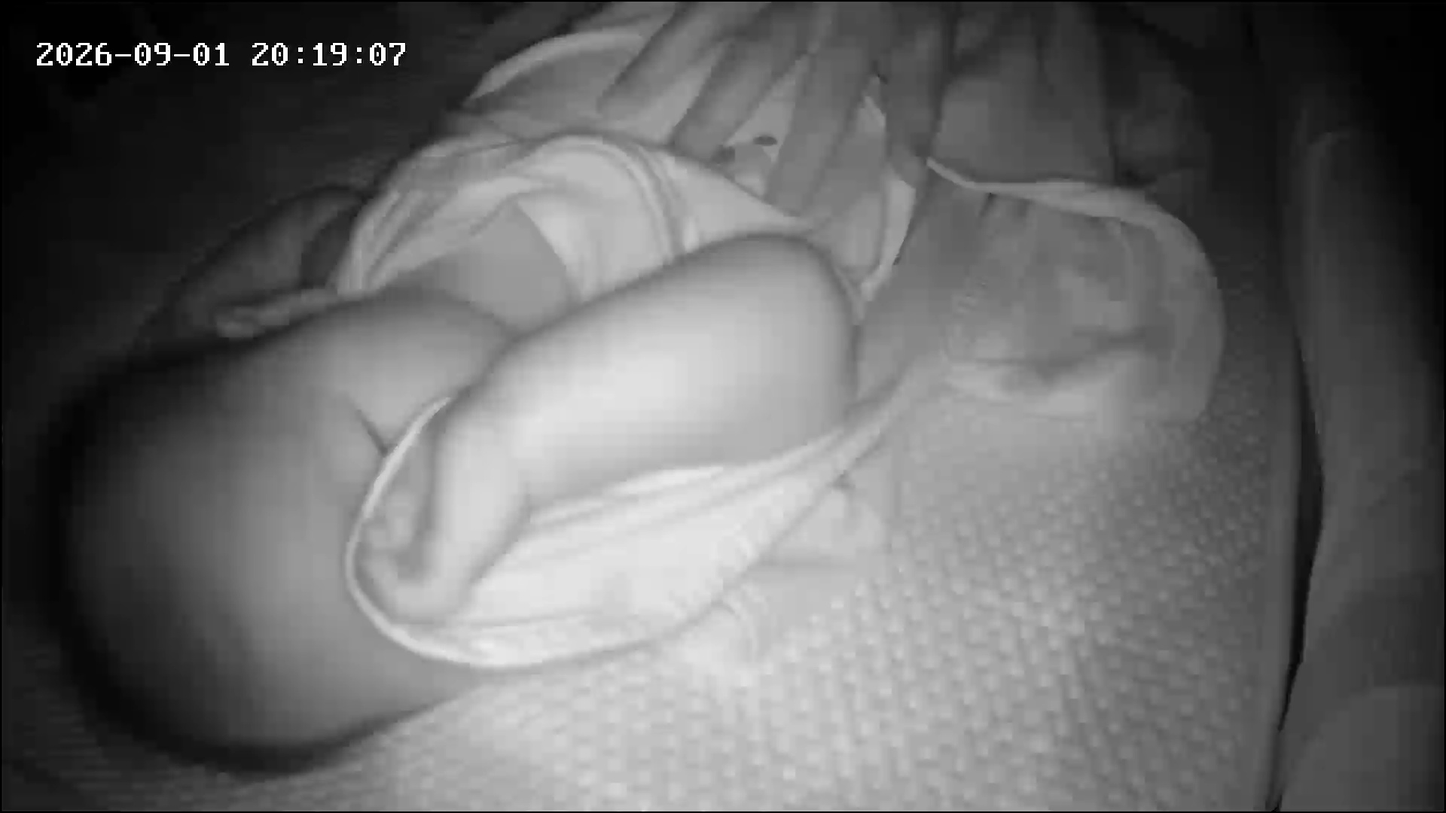baby: (312, 2, 1352, 790), (0, 16, 993, 805)
baby_face: (9, 291, 567, 786)
